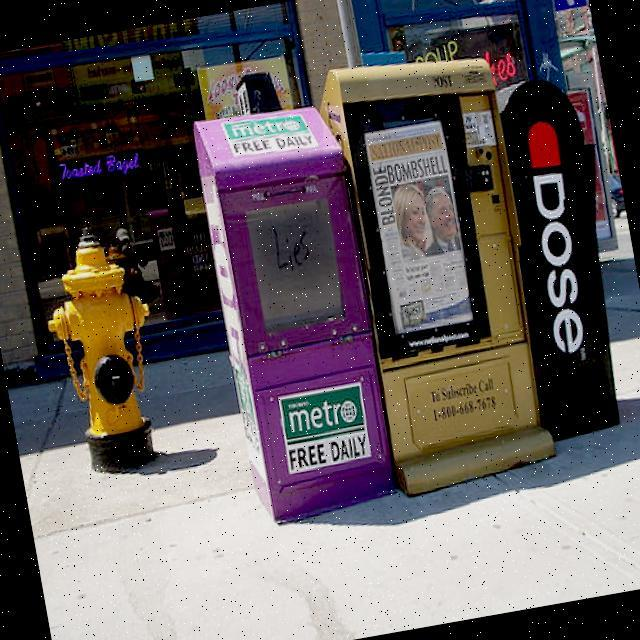fire_hydrant: (31, 216, 176, 478)
